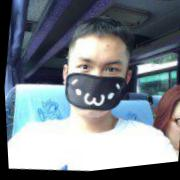WRONG: (60, 44, 132, 128)
